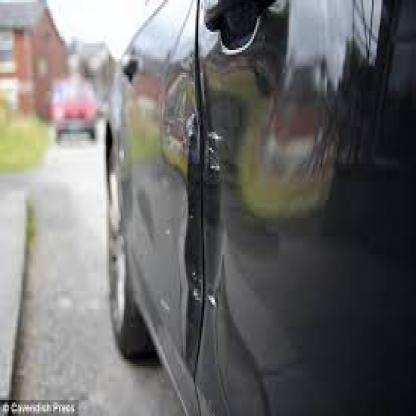dent: (182, 110, 236, 381)
